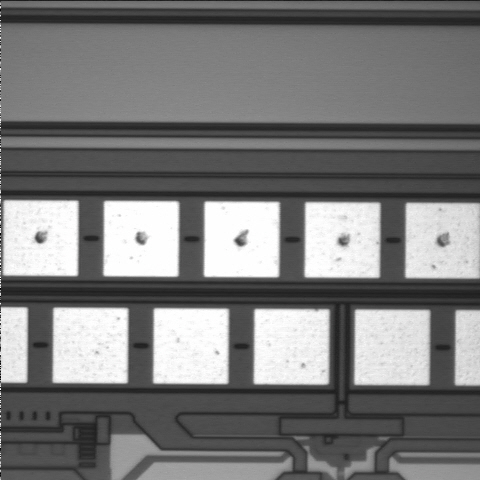pad: (103, 201, 179, 277), (204, 201, 280, 277), (304, 202, 380, 278), (153, 308, 229, 384), (3, 200, 78, 276), (254, 309, 329, 385), (354, 310, 430, 385), (53, 308, 128, 383)
